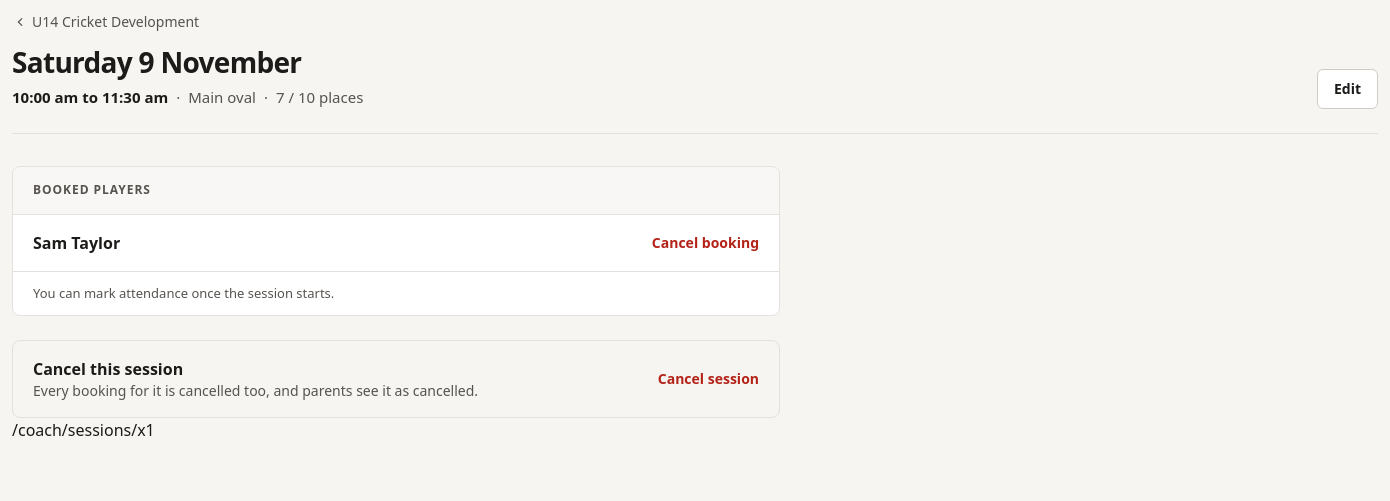
Scenario: coach session pages › shows who is booked and cancels a booking
The image size is (1390, 501).
Click the button with aria-label "Cancel booking: Sam Taylor".
click(705, 242)  # box [652, 224, 759, 260]
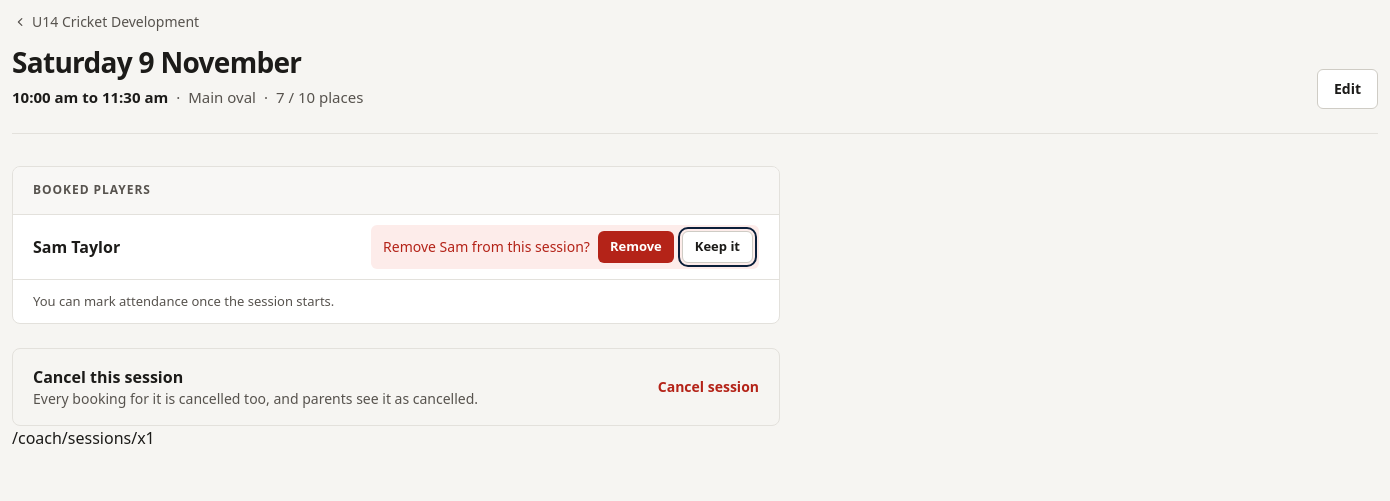
Click the button "Remove".
click(636, 246)  # box [598, 230, 674, 262]
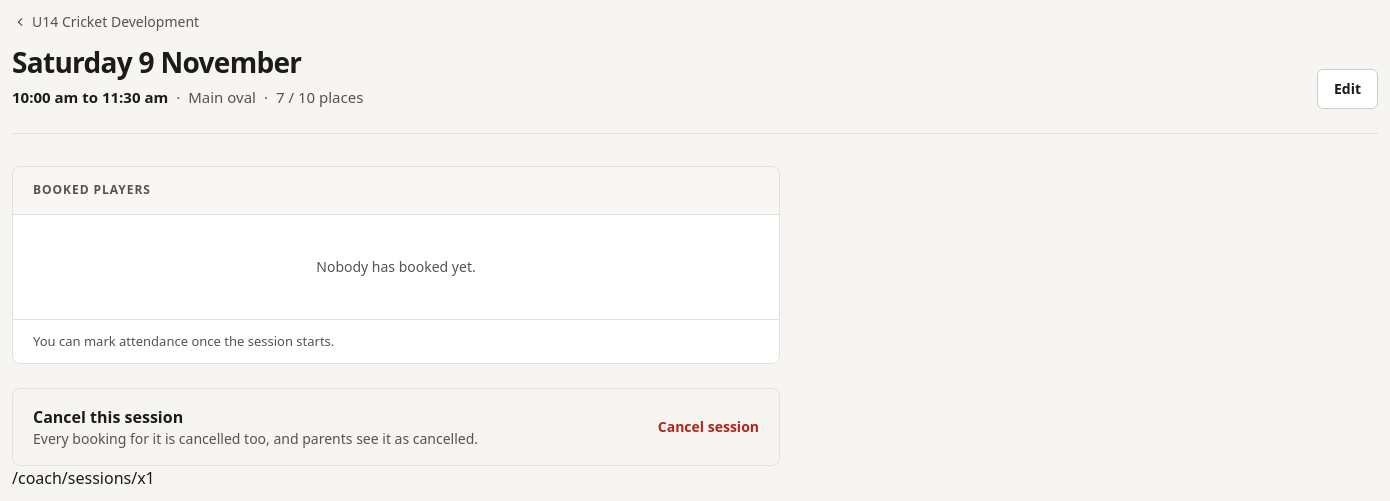
Expected: the text "Nobody has booked yet." is shown, [316, 254, 476, 278]
